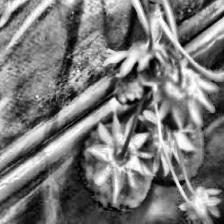Gray Mold: (103, 41, 179, 106)
